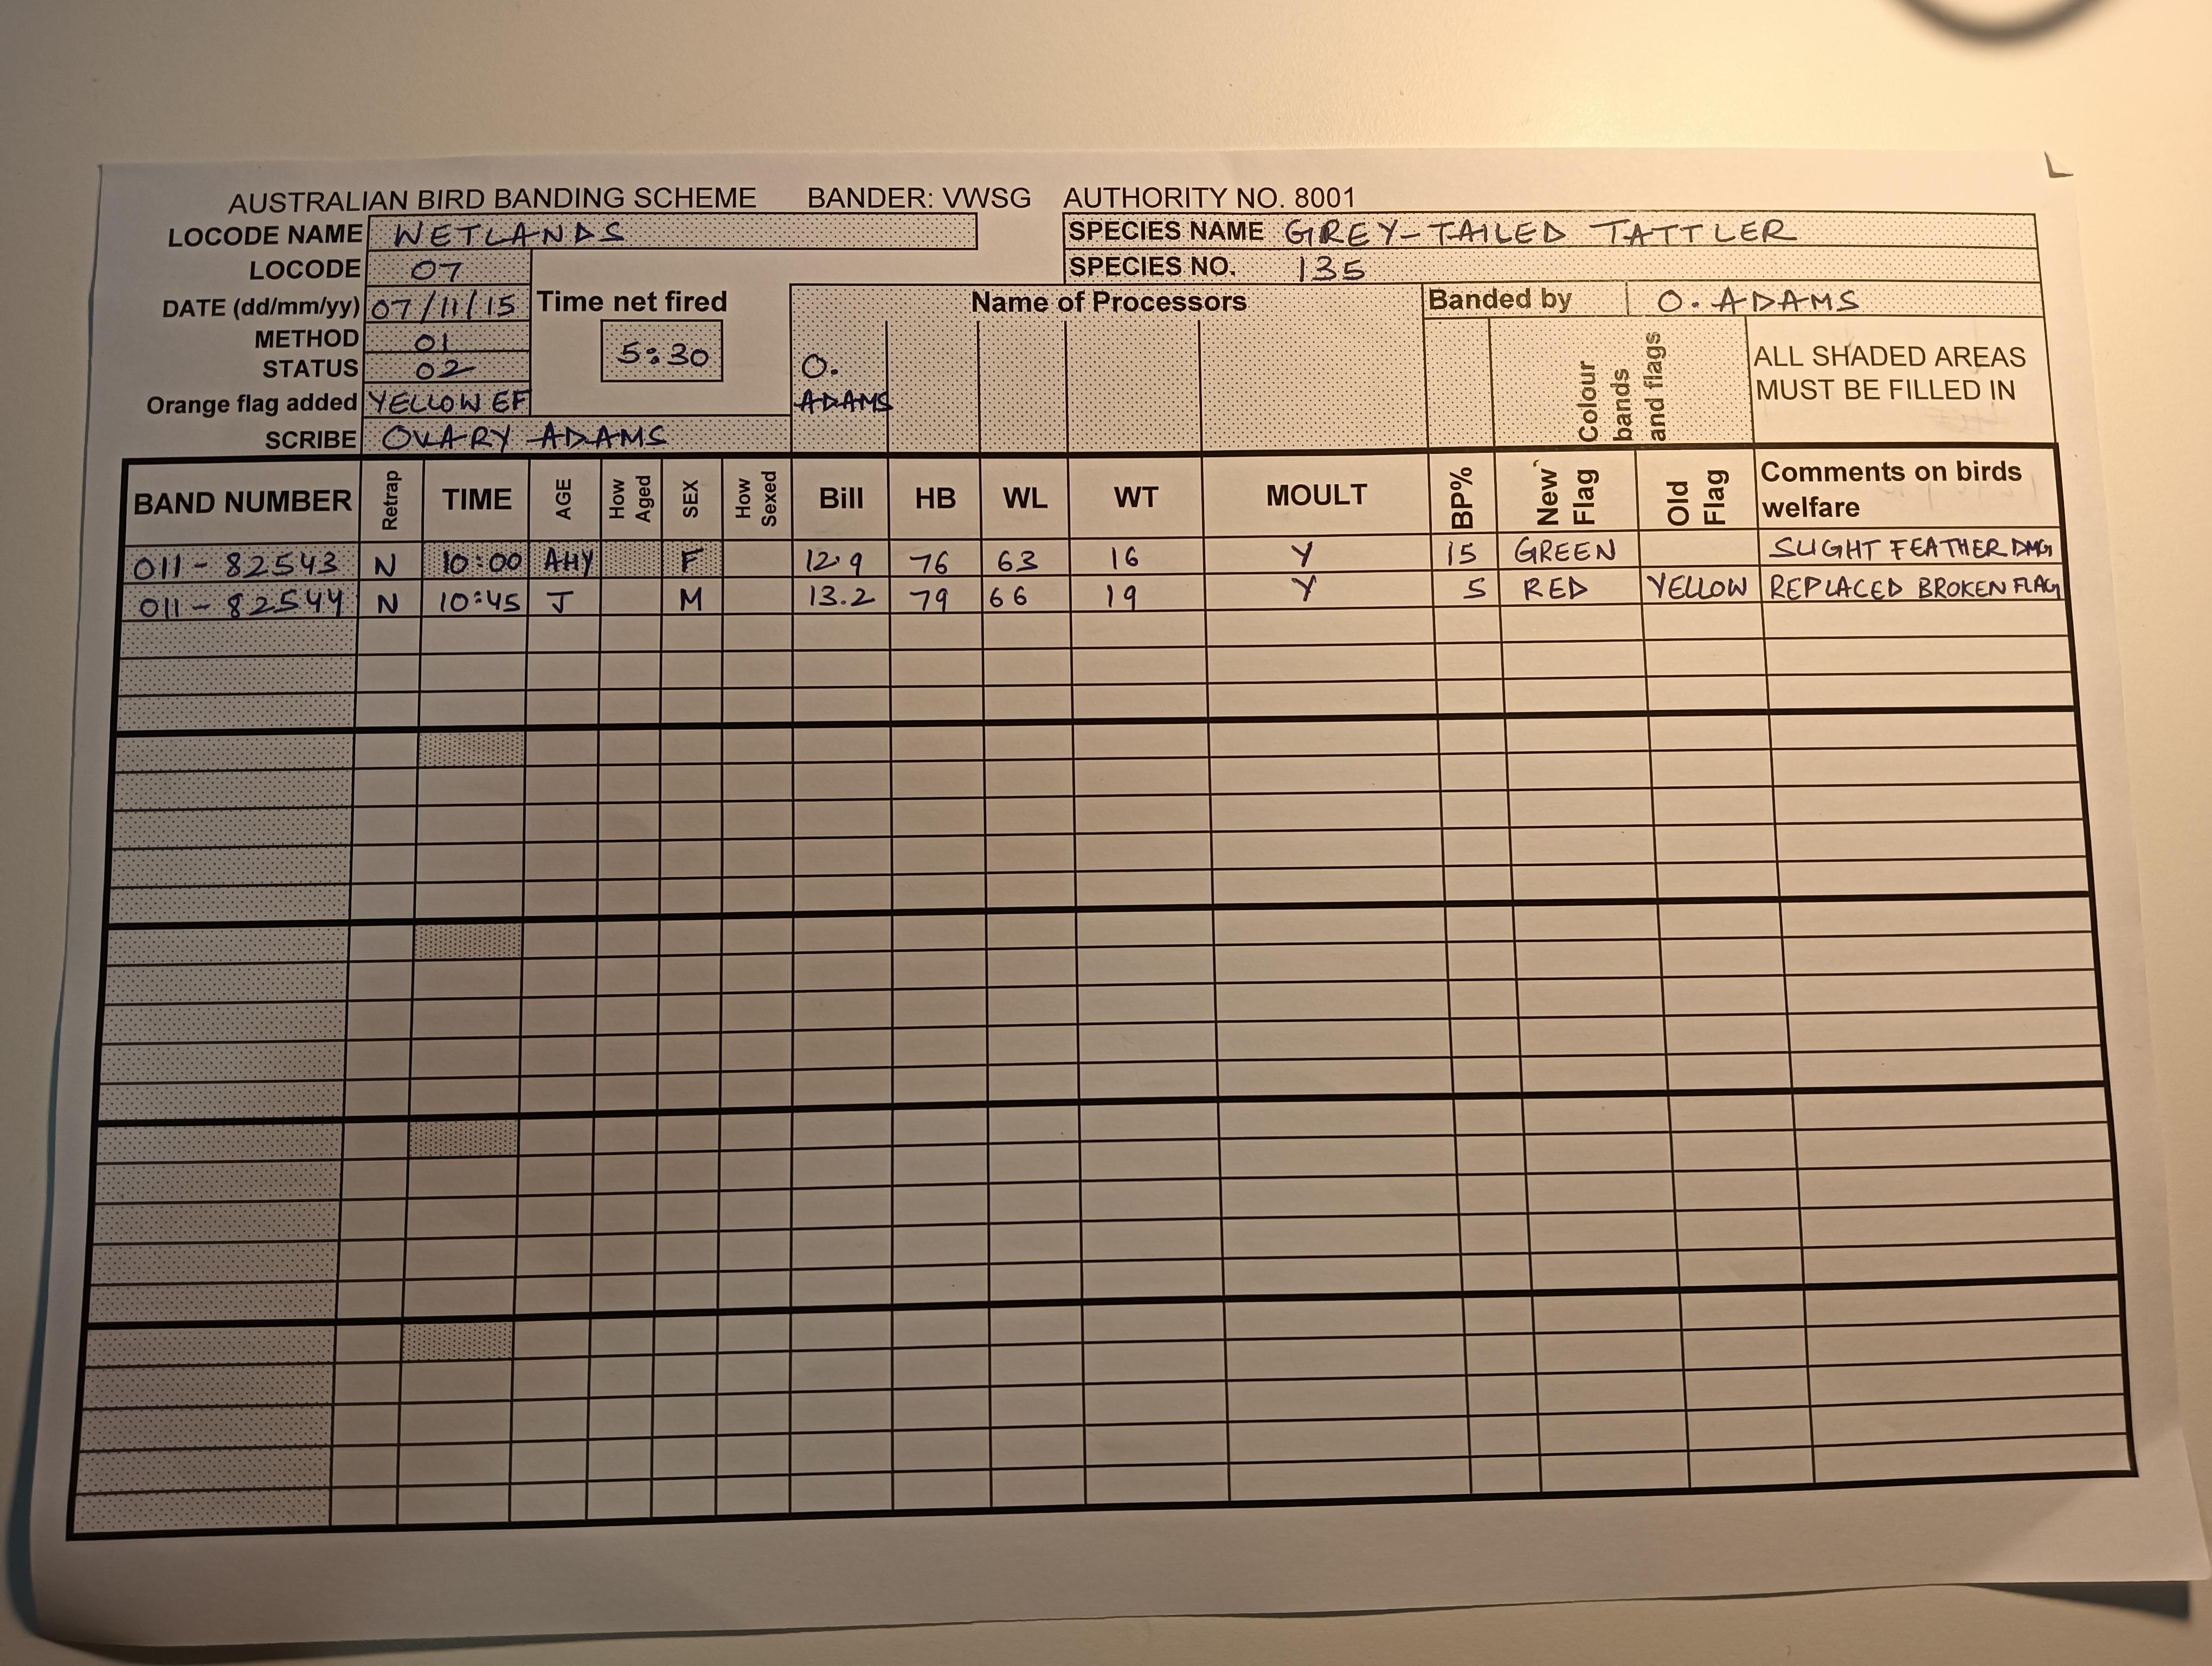BANDED_BY: (1425, 278, 2041, 320)
DATA: (121, 527, 2067, 585), (117, 563, 2069, 620)
DATE: (157, 282, 528, 324)
LOCOCODE: (233, 245, 537, 283)
LOCOCODE_NAME: (131, 210, 974, 254)
METHOD: (217, 317, 532, 352)
NAME_OF_PROCESSORS: (789, 327, 899, 453)
ORANGE_FLAG_ADDED: (136, 381, 533, 420)
SCRIBE: (255, 415, 787, 457)
SPECIES_NAME: (1065, 214, 2041, 249)
SPECIES_NO: (1063, 249, 2039, 283)
STATUS: (245, 348, 533, 381)
TIME_NET_FIRED: (533, 264, 738, 404)
